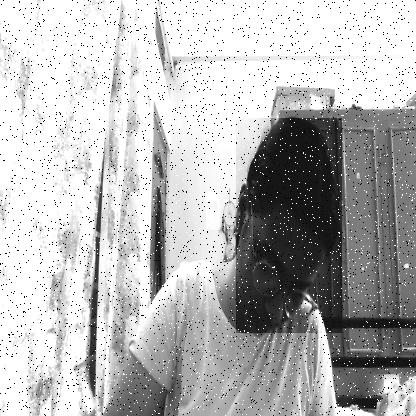Distracted: (236, 118, 342, 333)
